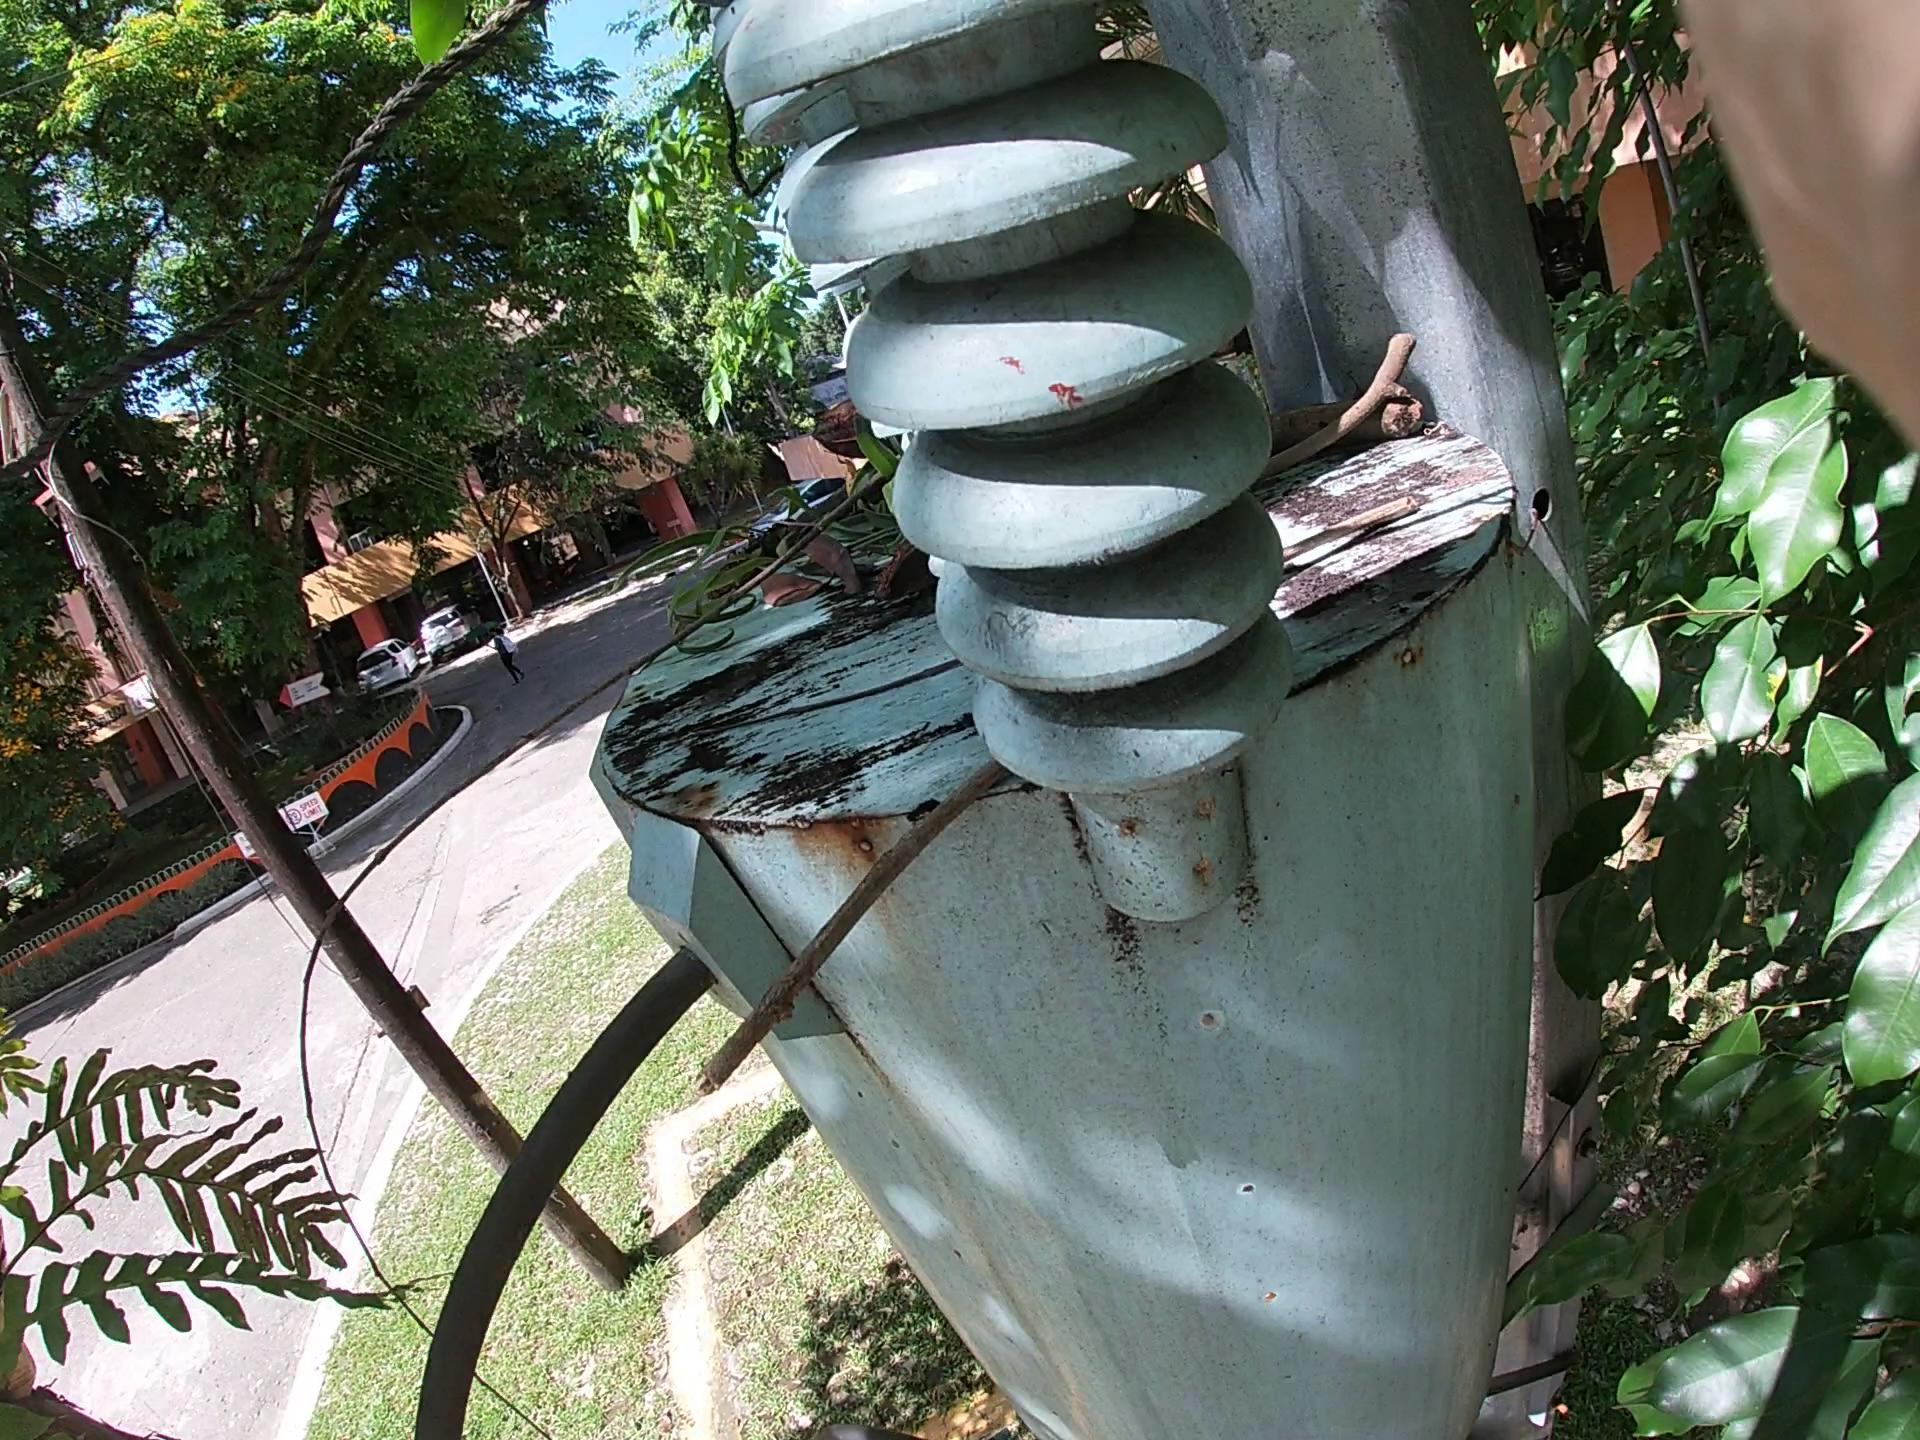branch with leaves: (630, 327, 1460, 563)
leaf: (711, 495, 868, 640)
tree branch: (257, 479, 910, 1215), (643, 531, 1359, 1128), (685, 466, 1392, 759)
